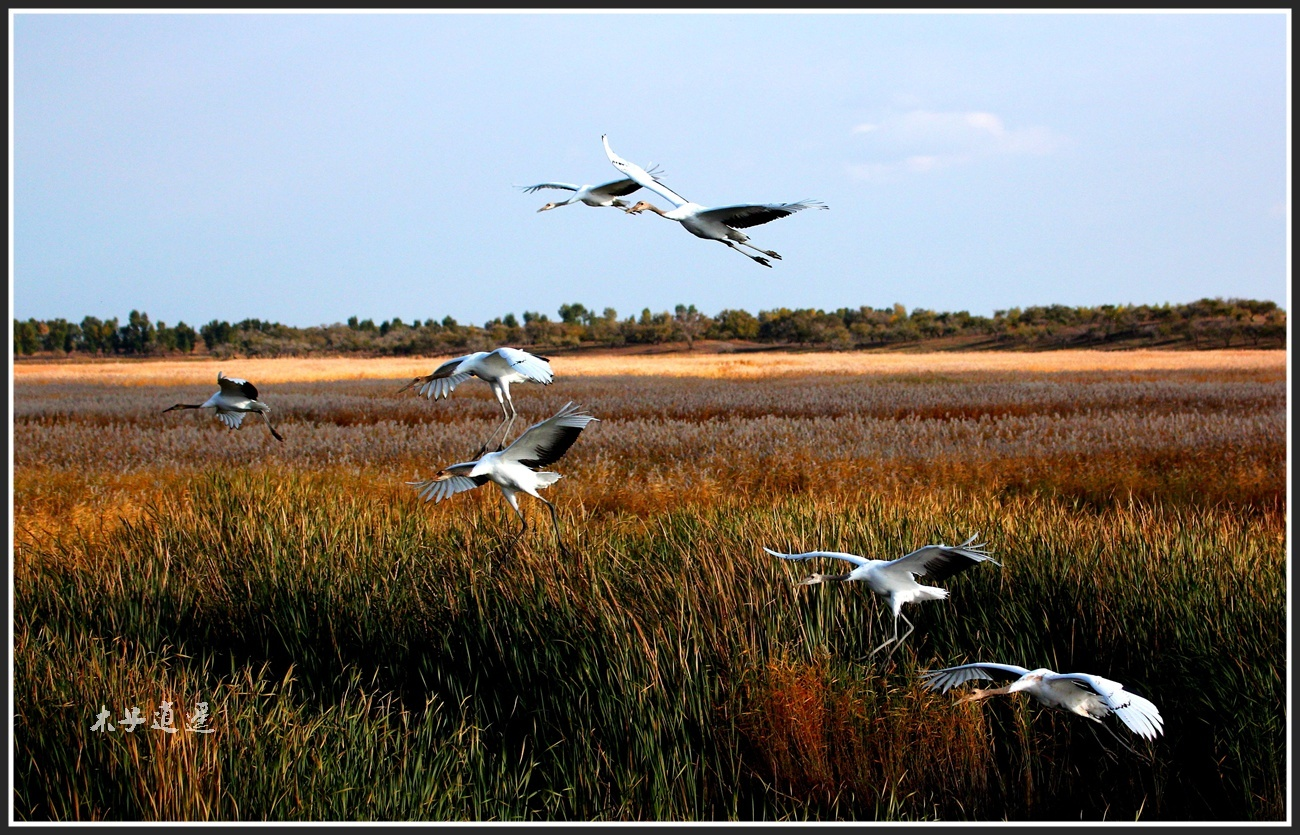bird: (759, 525, 1007, 673), (598, 134, 834, 270), (409, 407, 596, 555), (916, 659, 1170, 744), (400, 340, 558, 450), (506, 159, 667, 228), (168, 367, 279, 440)
